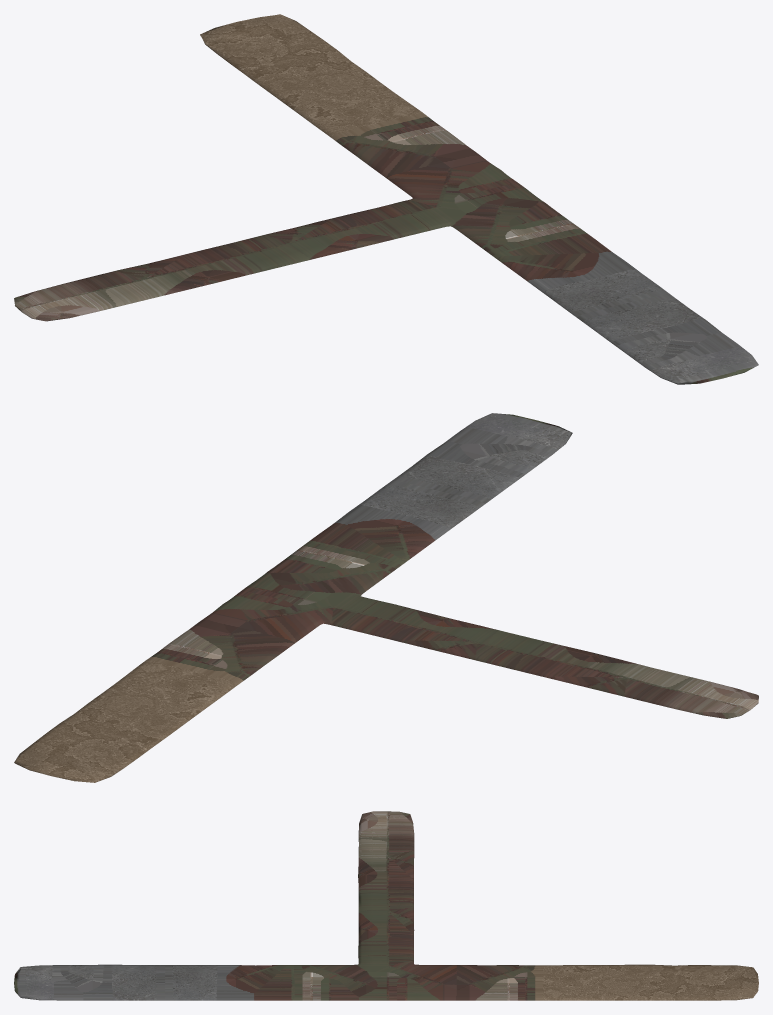
Rendered from Roads.fbx.
3 views of the same model, one above another, from view 1: azimuth 30°, elevation 25°; view 2: azimuth 150°, elevation 25°; view 3: azimuth 270°, elevation 25° (orthographic). The views are drawn at different scales.
Parts seen in each view (by area): view 1: Plane.023, Plane.022, Plane.021, Plane.020; view 2: Plane.023, Plane.022, Plane.021, Plane.020; view 3: Plane.023, Plane.022, Plane.021, Plane.020.
Part boxes in pixels (<box>): Plane.023: <box>486,227,758,384</box>; Plane.022: <box>200,14,448,155</box>; Plane.021: <box>351,132,578,250</box>; Plane.020: <box>14,214,385,321</box>; Plane.023: <box>302,413,572,570</box>; Plane.022: <box>14,642,263,782</box>; Plane.021: <box>171,547,422,665</box>; Plane.020: <box>387,611,758,718</box>; Plane.023: <box>14,964,304,1000</box>; Plane.022: <box>504,964,758,1000</box>; Plane.021: <box>304,939,504,1000</box>; Plane.020: <box>358,811,414,940</box>.
Size of the model in its own units: 2726 by 18.28 by 4545.
